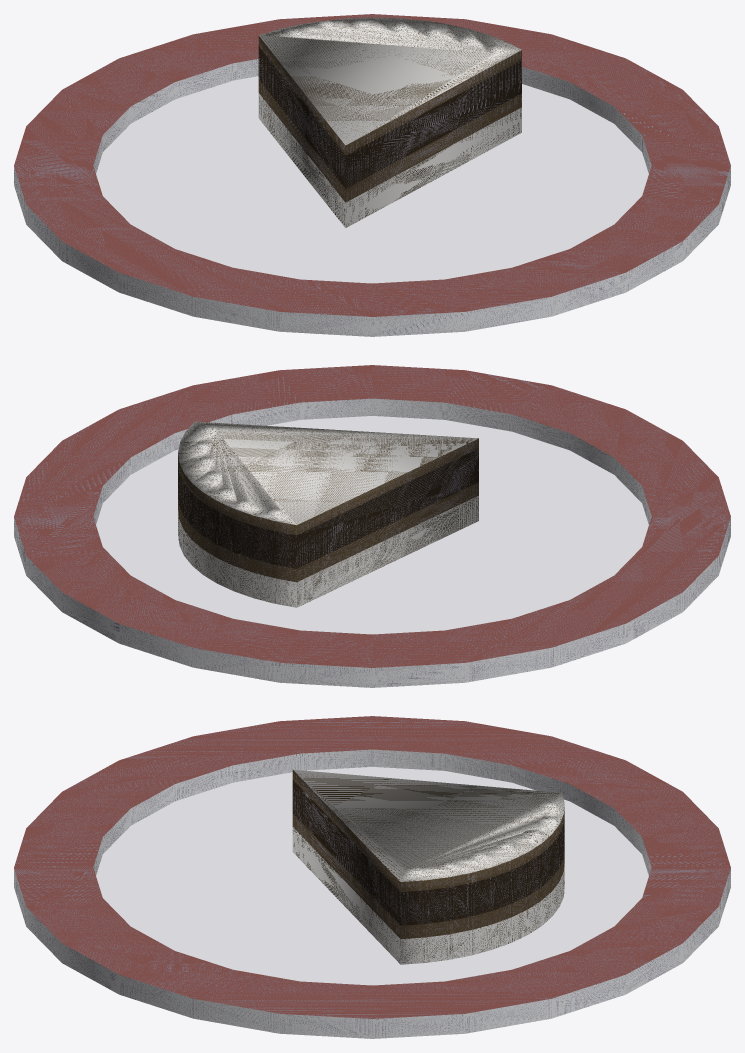
The model's file is cake-piece.dae.
The picture shows the model from 3 angles, top to bottom: view 1: azimuth 30°, elevation 25°; view 2: azimuth 150°, elevation 25°; view 3: azimuth 270°, elevation 25°; orthographic projection.
Visible parts, largest first — view 1: SketchUp (×8); view 2: SketchUp (×8); view 3: SketchUp (×8).
Boxes of the visible parts, x1,y1,x2,y2 form: SketchUp (×8): (14,14,730,336); SketchUp (×8): (14,365,730,687); SketchUp (×8): (14,716,730,1038).
Bounding box in the file's own units: 284 × 284 × 38.19.
